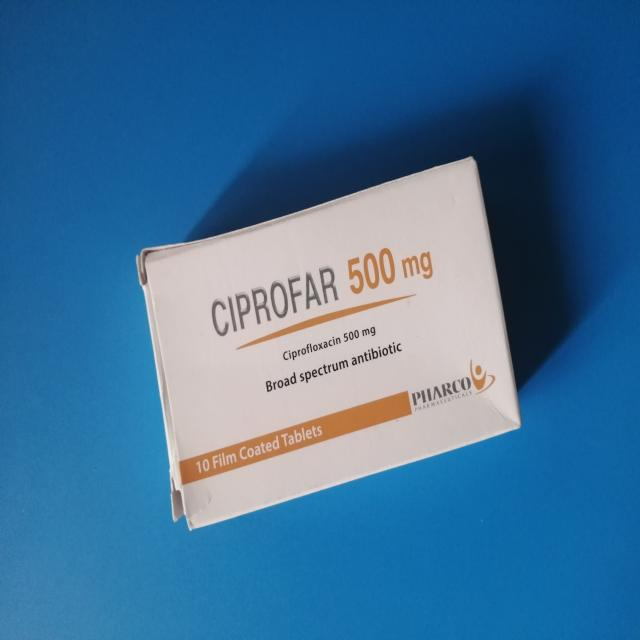Medicine: (136, 150, 524, 528)
